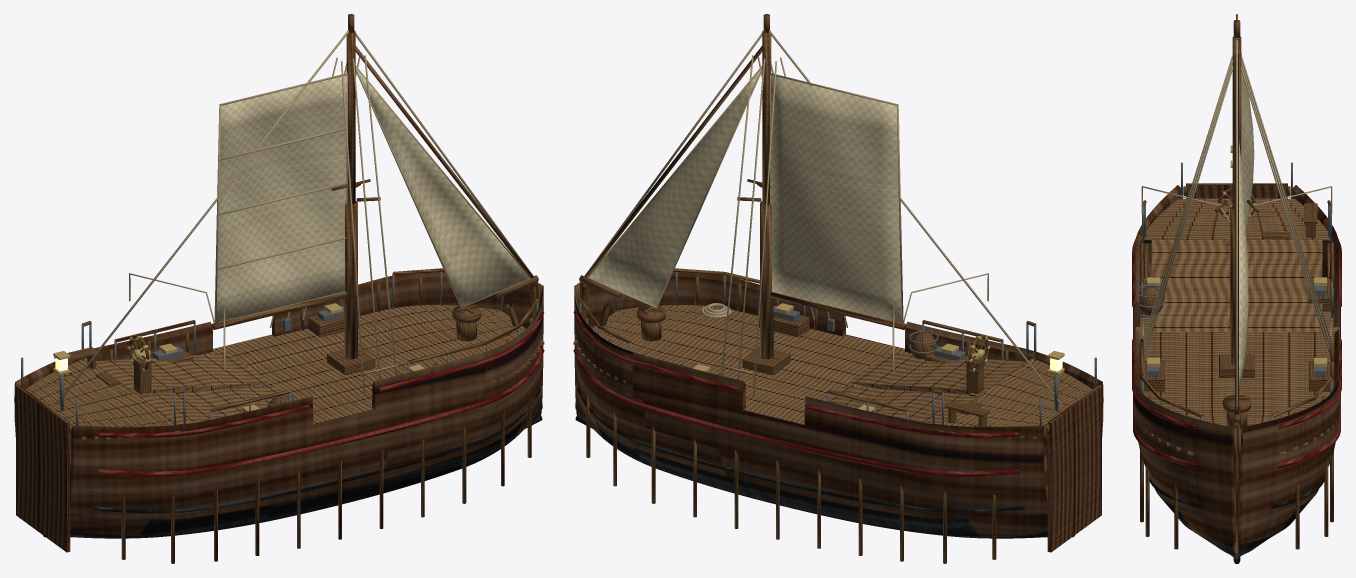
The model's file is sloop_v2.glb.
3 views of the same model, side by side, from view 1: azimuth 30°, elevation 25°; view 2: azimuth 150°, elevation 25°; view 3: azimuth 270°, elevation 25° (orthographic).
Parts seen in each view (by area): view 1: SM_Sloop; view 2: SM_Sloop; view 3: SM_Sloop.
Part boxes in pixels (x1,y1,x2,y2): SM_Sloop: (14,14,544,563); SM_Sloop: (573,14,1103,563); SM_Sloop: (1132,14,1341,563).
Size of the model in its own units: 14.53 by 13.29 by 5.28.
10 materials, 6 textured.
